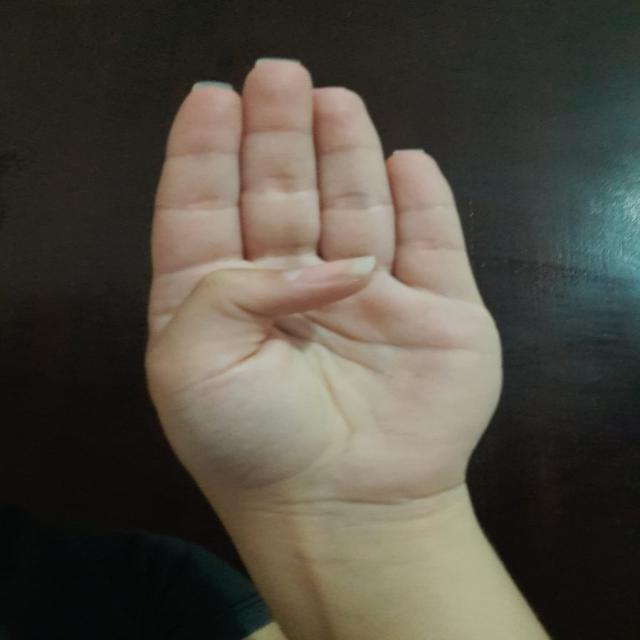B: (135, 48, 520, 508)
